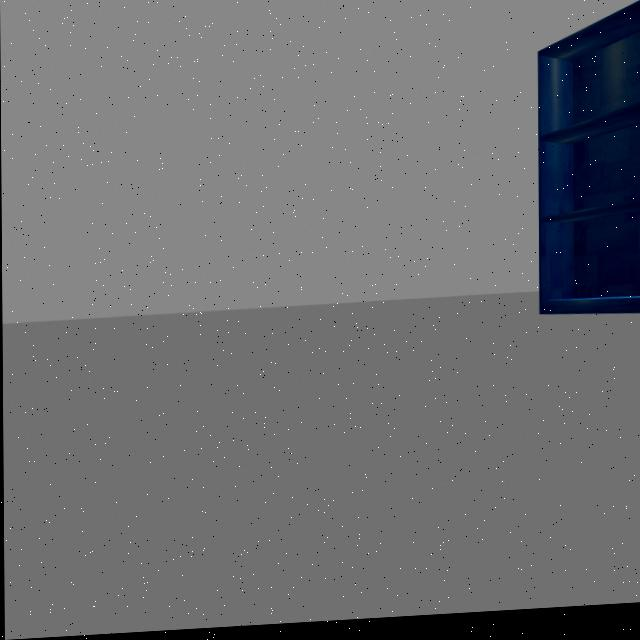shelf: (526, 0, 640, 341)
